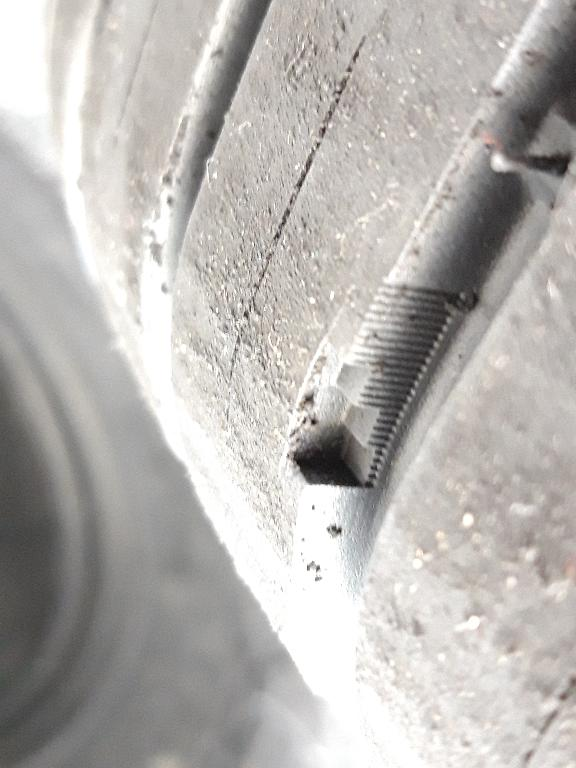temoin:75: (278, 297, 450, 497)
